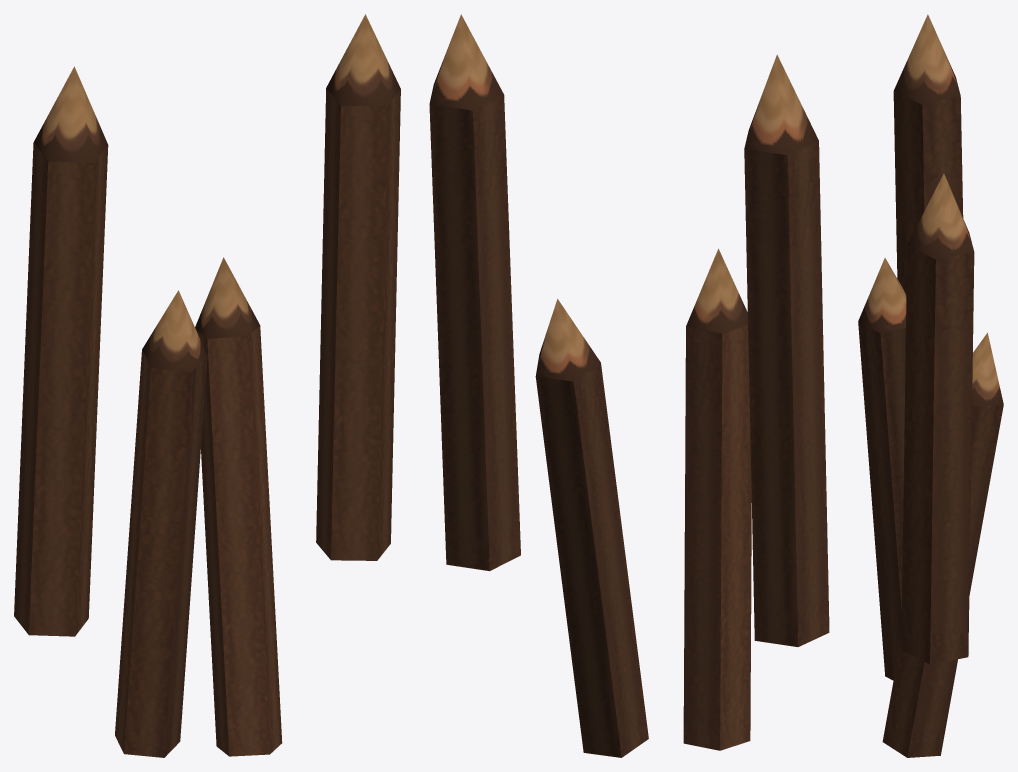
File: lvl0_1x1.fbx
3 renders of one model, left to right at view 1: azimuth 30°, elevation 25°; view 2: azimuth 150°, elevation 25°; view 3: azimuth 270°, elevation 25°, orthographic. The views are drawn at different scales.
Parts seen in each view (by area): view 1: polySurface466; view 2: polySurface466; view 3: polySurface466.
Part boxes in pixels (<box>): polySurface466: <box>14,14,400,757</box>; polySurface466: <box>429,14,829,757</box>; polySurface466: <box>858,14,1003,757</box>.
Size of the model in its own units: 8.69 by 15.8 by 3.16.
